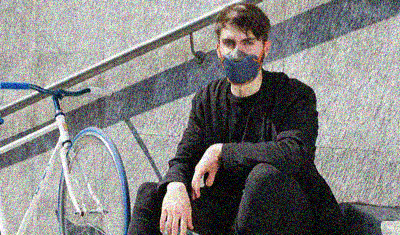with_mask: (219, 35, 263, 85)
